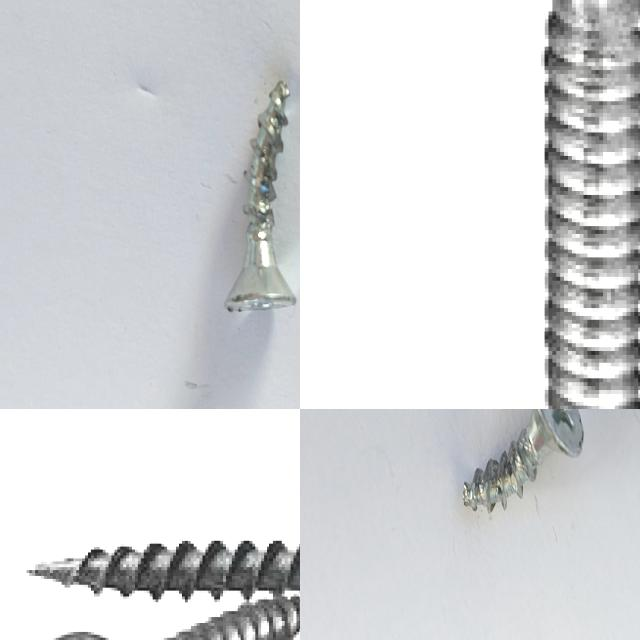Screw: (545, 0, 640, 409), (224, 80, 296, 311), (26, 541, 300, 597), (463, 409, 583, 513)
